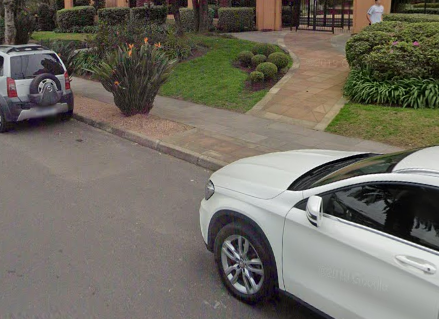vag72: (73, 76, 203, 196)
